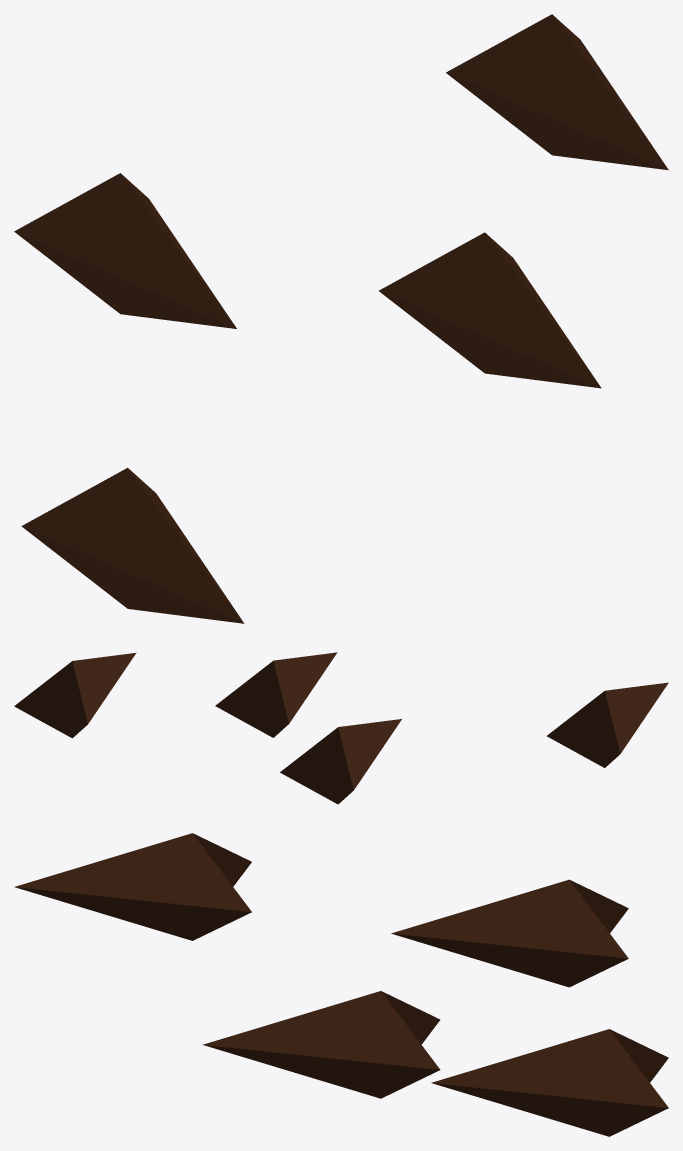
File: BlackBronzeArrowheadStack4.glb
3 views of the same model, one above another, from view 1: azimuth 30°, elevation 25°; view 2: azimuth 150°, elevation 25°; view 3: azimuth 270°, elevation 25° (orthographic). The views are drawn at different scales.
Visible parts, largest first — view 1: BlackBronzeArrowheadStack4; view 2: BlackBronzeArrowheadStack4; view 3: BlackBronzeArrowheadStack4.
Boxes of the visible parts, x1,y1,x2,y2 form: BlackBronzeArrowheadStack4: [14, 14, 668, 623]; BlackBronzeArrowheadStack4: [14, 652, 668, 804]; BlackBronzeArrowheadStack4: [14, 833, 668, 1136].
Size of the model in its own units: 0.3118 by 0.0806 by 0.2782.
